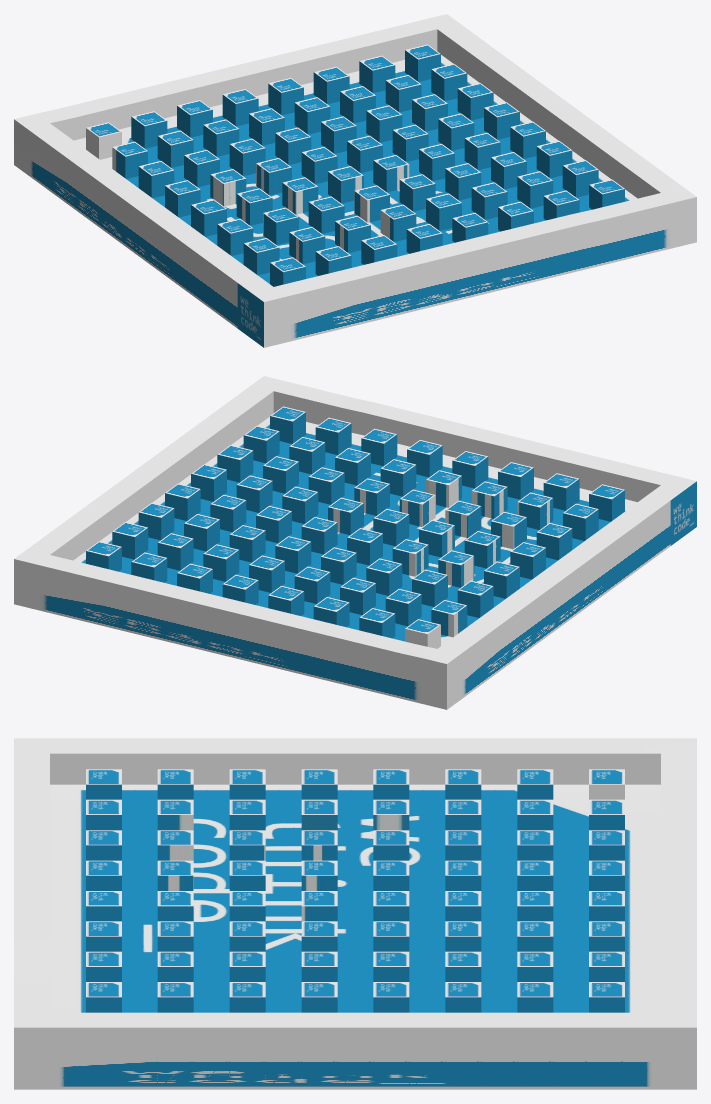
The model's file is world.obj.
The picture shows the model from 3 angles, top to bottom: view 1: azimuth 30°, elevation 25°; view 2: azimuth 150°, elevation 25°; view 3: azimuth 270°, elevation 25°; orthographic projection. The views are drawn at different scales.
Visible parts, largest first — view 1: Box001; view 2: Box001; view 3: Box001.
Part boxes in pixels (left/top/right/bottom): Box001: left=14, top=14, right=696, bottom=347; Box001: left=14, top=376, right=696, bottom=709; Box001: left=14, top=738, right=696, bottom=1089.
Size of the model in its own units: 2000 by 202 by 2000.
Materials: 1 (1 with a texture image).
